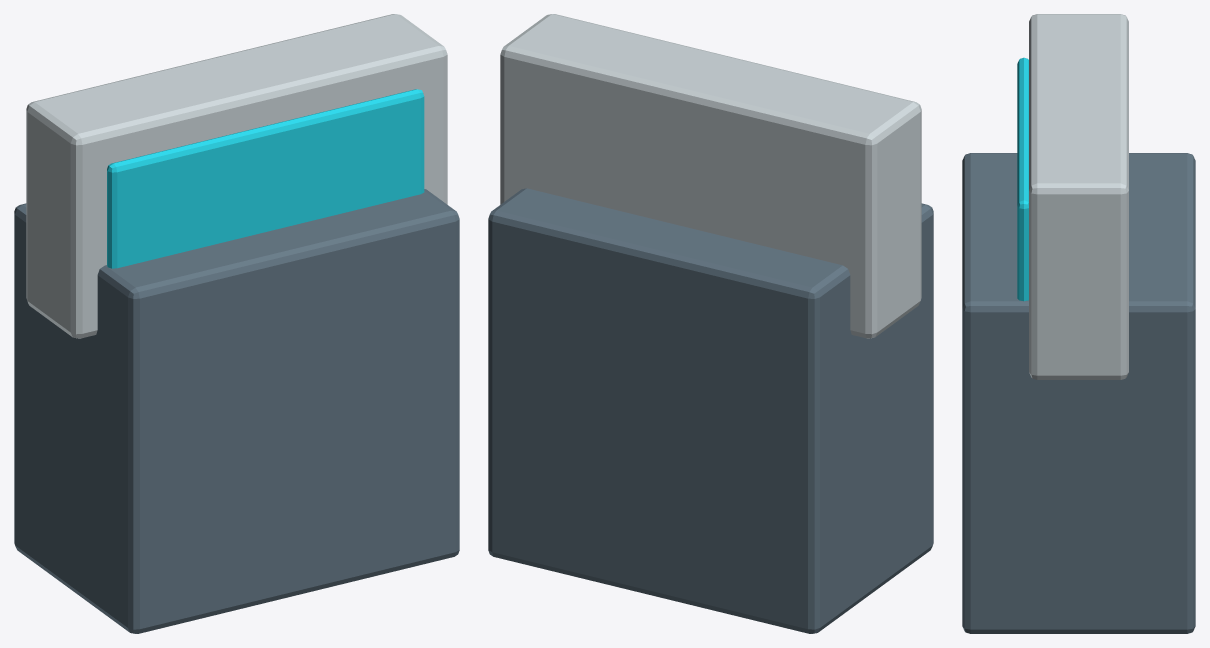
File: CL_Console.fbx
3 views of the same model, side by side, from view 1: azimuth 30°, elevation 25°; view 2: azimuth 150°, elevation 25°; view 3: azimuth 270°, elevation 25° (orthographic). The views are drawn at different scales.
Visible parts, largest first — view 1: ConsoleBase, ScreenHousing, Screen; view 2: ConsoleBase, ScreenHousing; view 3: ConsoleBase, ScreenHousing, Screen.
Boxes of the visible parts, left/top/right/bottom form: ConsoleBase: left=14, top=189, right=459, bottom=633; ScreenHousing: left=26, top=14, right=447, bottom=338; Screen: left=107, top=89, right=424, bottom=268; ConsoleBase: left=488, top=188, right=933, bottom=633; ScreenHousing: left=500, top=14, right=921, bottom=338; ConsoleBase: left=962, top=153, right=1195, bottom=633; ScreenHousing: left=1029, top=14, right=1128, bottom=379; Screen: left=1017, top=57, right=1028, bottom=301.
Size of the model in its own units: 1.25 by 1.53 by 0.7.
